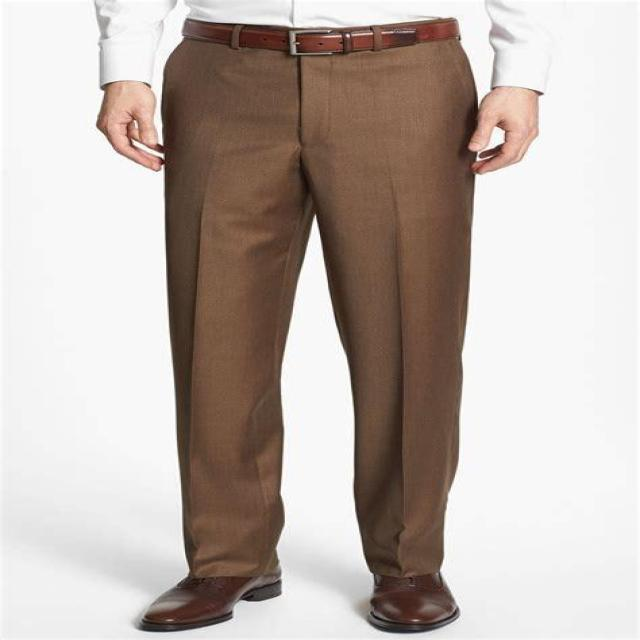pants: (158, 21, 482, 581)
